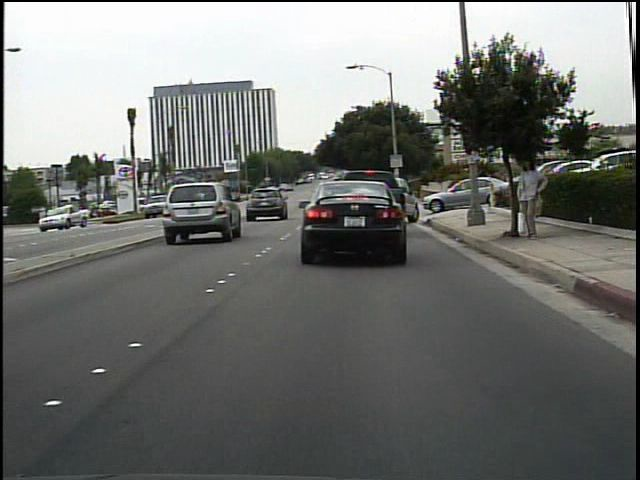person: (511, 154, 549, 244)
